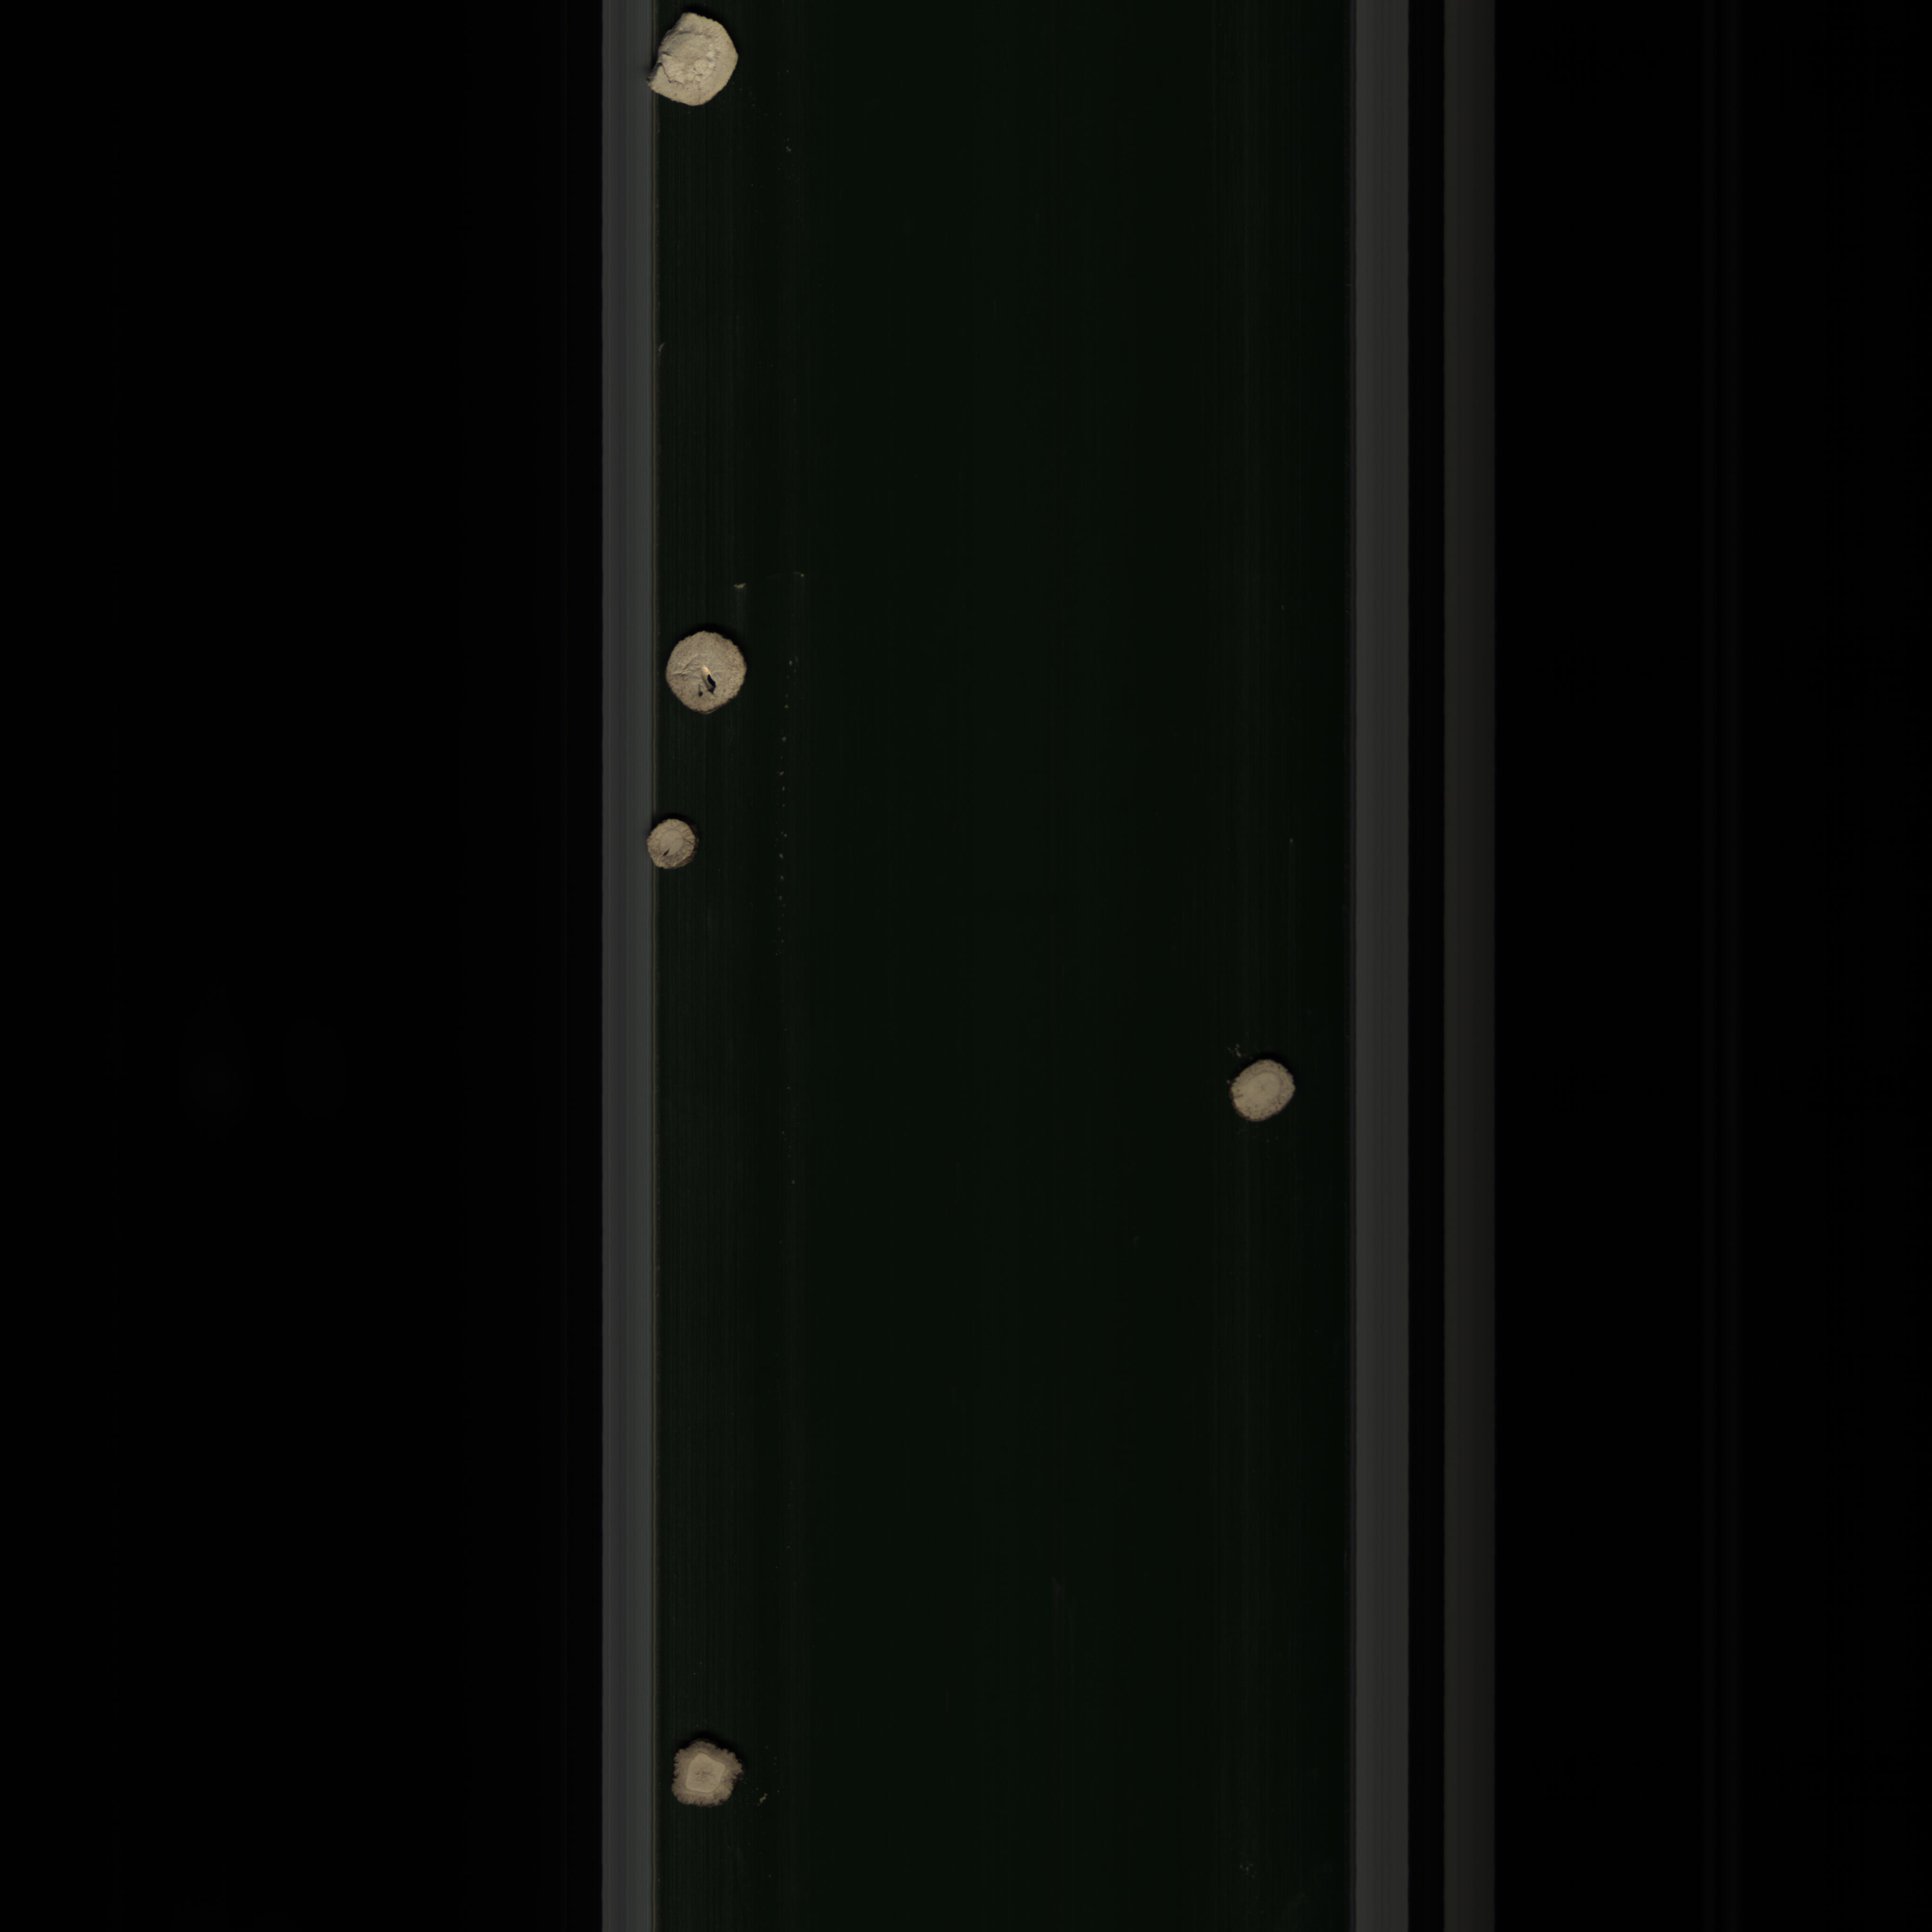debris: (646, 7, 752, 119)
distortion: (665, 1729, 750, 1821)
hole: (656, 619, 759, 725), (639, 807, 701, 879)
